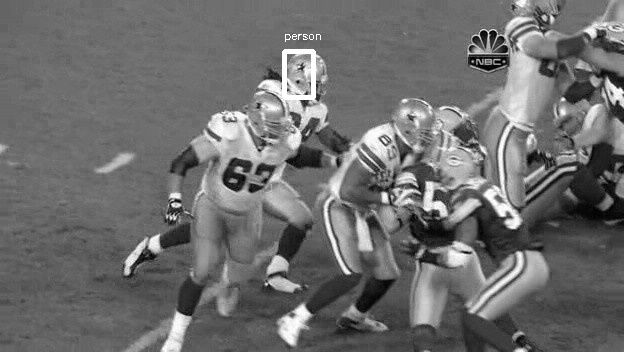person: (295, 51, 329, 99), (294, 51, 328, 99), (296, 51, 330, 99), (295, 50, 329, 98), (295, 52, 329, 100)
target_negative: (185, 263, 617, 346), (186, 240, 414, 352), (140, 140, 265, 273), (516, 115, 593, 220), (560, 121, 593, 341), (480, 318, 485, 329)
